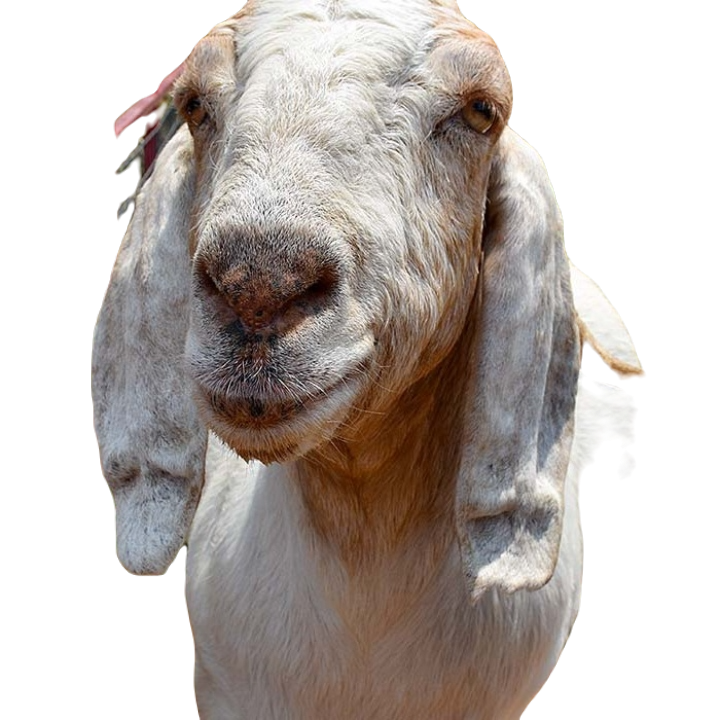Goat: (84, 0, 648, 719)
